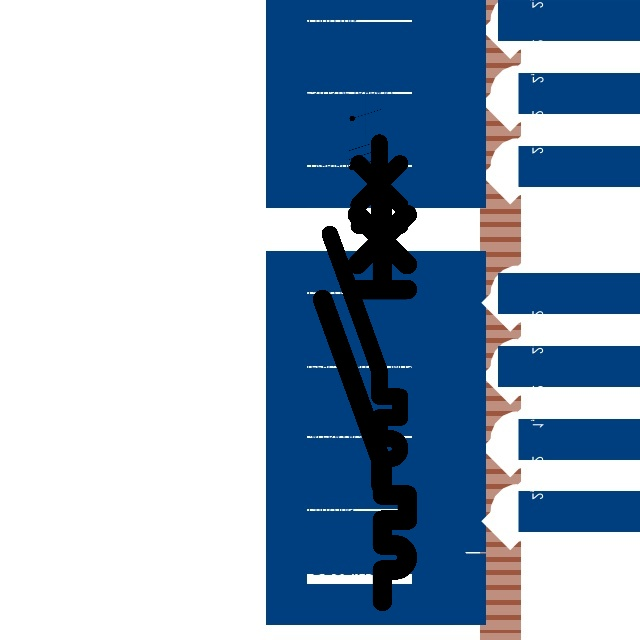interruptor_termomagnetico: (312, 179, 418, 612), (321, 133, 409, 493)
